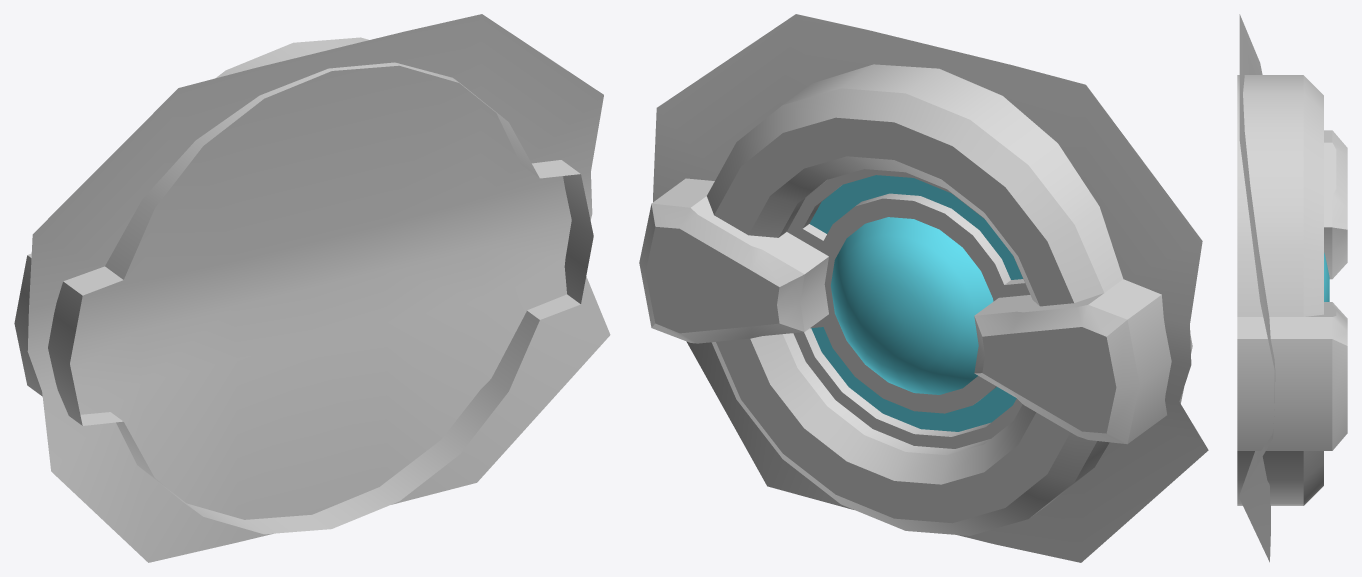
Rendered from Mod_BackPlate_Idol2.fbx.
3 renders of one model, left to right at view 1: azimuth 30°, elevation 25°; view 2: azimuth 150°, elevation 25°; view 3: azimuth 270°, elevation 25°, orthographic. The views are drawn at different scales.
Parts seen in each view (by area): view 1: Mod_BackPlate_Idol2; view 2: Mod_BackPlate_Idol2; view 3: Mod_BackPlate_Idol2.
Part boxes in pixels (x1,y1,x2,y2): Mod_BackPlate_Idol2: (14,14,610,562); Mod_BackPlate_Idol2: (639,14,1208,562); Mod_BackPlate_Idol2: (1237,14,1347,562).
Bounding box in the file's own units: 326 × 266 × 63.7.
